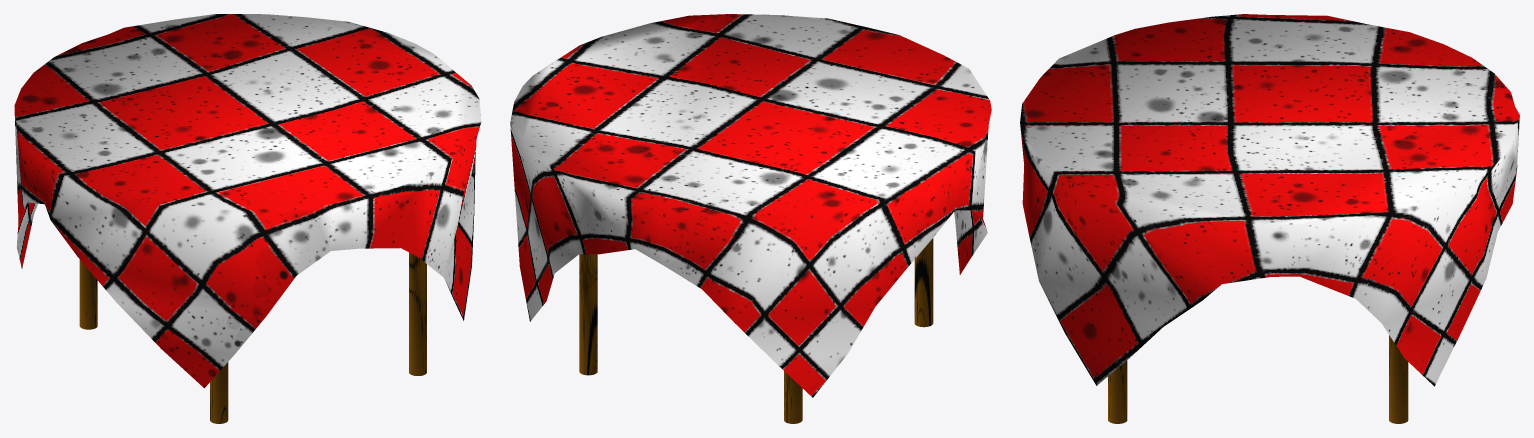
The model's file is RoundTable.obj.
3 renders of one model, left to right at view 1: azimuth 30°, elevation 25°; view 2: azimuth 150°, elevation 25°; view 3: azimuth 270°, elevation 25°, orthographic. The views are drawn at different scales.
Parts seen in each view (by area): view 1: tablecloth, RoundTable; view 2: tablecloth, RoundTable; view 3: tablecloth, RoundTable.
Boxes of the visible parts, x1=… form: tablecloth: x1=14, y1=14, x2=481, y2=388; RoundTable: x1=79, y1=252, x2=426, y2=423; tablecloth: x1=510, y1=14, x2=991, y2=397; RoundTable: x1=579, y1=238, x2=933, y2=423; tablecloth: x1=1020, y1=14, x2=1519, y2=386; RoundTable: x1=1108, y1=335, x2=1408, y2=423.
Size of the model in its own units: 8.1 by 4.39 by 7.97.
